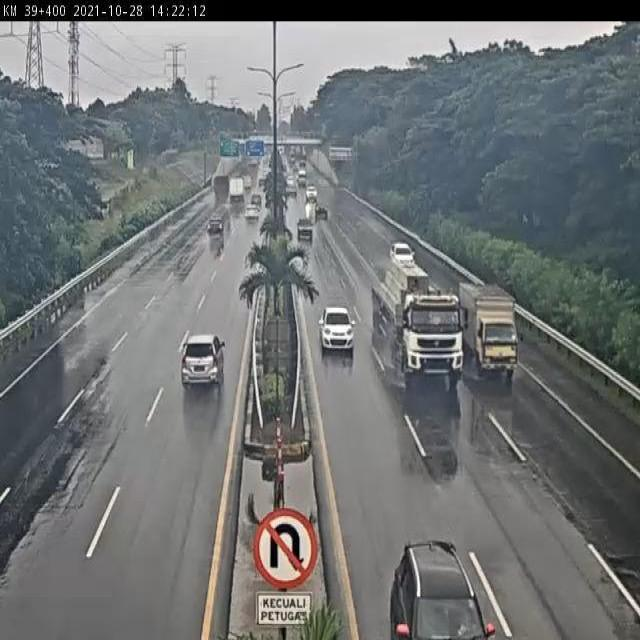car: (180, 329, 226, 394), (318, 304, 358, 355), (206, 213, 226, 239)
truck-s-: (457, 281, 523, 380)
truck-xl-: (373, 260, 465, 391)
